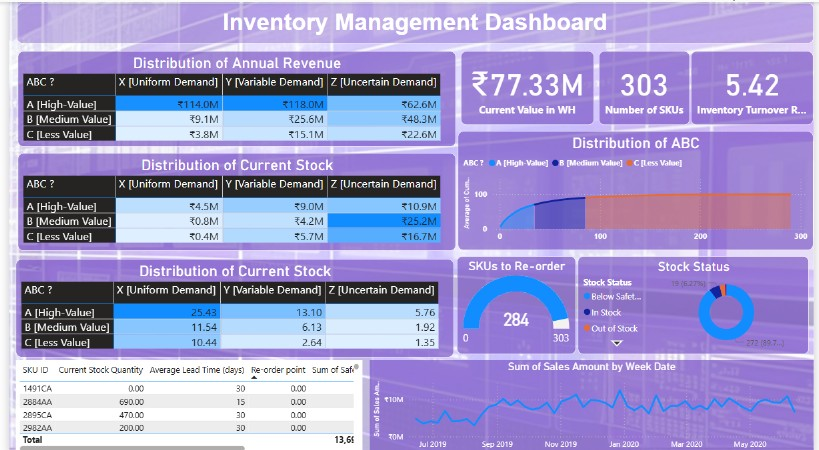

Layout of this report page (visuals, bound fields, positions):
{"tool":"powerbi","page":{"name":"Inventorymangt","canvas":[1280,720],"ordinal":1},"visuals":[{"type":"textbox","box":[12.8,1.7,1267.2,63.8],"z":0},{"type":"pivotTable","title":"Distribution of Annual Revenue","fields":{"Rows":["Stock.ABC ?"],"Columns":["Stock.XYZ ?"],"Values":["Sum(Stock.Annual Revenue)"]},"box":[13.8,77.6,696.6,151.7],"z":1000},{"type":"card","fields":{"Values":["Sum(Stock.Value in WH)"]},"box":[719,77.6,212.1,117.2],"z":2000},{"type":"card","fields":{"Values":["Count(Stock.SKU ID)"]},"box":[937.9,77.6,144.8,117.2],"z":3000},{"type":"card","fields":{"Values":["Inventory Measure.Inventory Turnover Ratio"]},"box":[1085.2,77.6,194.8,117.2],"z":4000},{"type":"pivotTable","title":"Distribution of Current Stock","fields":{"Rows":["Stock.ABC ?"],"Columns":["Stock.XYZ ?"],"Values":["Sum(Stock.Value in WH)"]},"box":[13.8,239.7,696.6,155.2],"z":5000},{"type":"stackedAreaChart","title":"Distribution of ABC","fields":{"Category":["Stock.ABC Rank"],"Y":["Avg(Stock.Cummulative Share)"],"Series":["Stock.ABC ?"]},"box":[714.5,205.2,565.5,189.7],"z":6000},{"type":"donutChart","title":"Stock Status","fields":{"Category":["Stock.Stock Status"],"Y":["CountNonNull(Stock.SKU ID)"]},"box":[905.1,404,367.4,155.9],"z":7000},{"type":"pivotTable","title":"Distribution of Current Stock","fields":{"Rows":["Stock.ABC ?"],"Columns":["Stock.XYZ ?"],"Values":["Inventory Measure.Inventory Turnover Ratio"]},"box":[11.1,408.8,696.7,155.9],"z":8000},{"type":"tableEx","fields":{"Values":["Stock.SKU ID","Stock.Current Stock Quantity","Stock.Average Lead Time (days)","Stock.Re-order point","Sum(Stock.Safety Stocks)","Stock.Stock Status"]},"box":[11,570,551,150],"z":9000},{"type":"gauge","title":"SKUs to Re-order","fields":{"MaxValue":["CountNonNull(Stock.SKU ID)"],"Y":["Inventory Measure.SKUs to Re-order"]},"box":[712.6,404,189.3,155.9],"z":10000},{"type":"lineChart","fields":{"Y":["Sum(Weekly Demand Sheet.Sales Amount)"],"Category":["Weekly Demand Sheet.Week Date"]},"box":[574.2,569.4,706.2,151.1],"z":11000}]}

Visuals, with their boxes in screenshot pixels (x1, y1, x2, y2), scaled from the page's 1280x720 canvas onto the 819x450 screenshot:
textbox: [8, 1, 818, 41]
"Distribution of Annual Revenue" pivotTable: [9, 48, 455, 143]
card - Sum(Stock.Value in WH): [460, 48, 596, 122]
card - Count(Stock.SKU ID): [600, 48, 693, 122]
card - Inventory Measure.Inventory Turnover Ratio: [694, 48, 818, 122]
"Distribution of Current Stock" pivotTable: [9, 150, 455, 247]
"Distribution of ABC" stackedAreaChart: [457, 128, 818, 247]
"Stock Status" donutChart: [579, 252, 814, 350]
"Distribution of Current Stock" pivotTable: [7, 256, 453, 353]
tableEx - Stock.SKU ID x Stock.Current Stock Quantity: [7, 356, 360, 449]
"SKUs to Re-order" gauge: [456, 252, 577, 350]
lineChart - Sum(Weekly Demand Sheet.Sales Amount) x Weekly Demand Sheet.Week Date: [367, 356, 818, 449]
